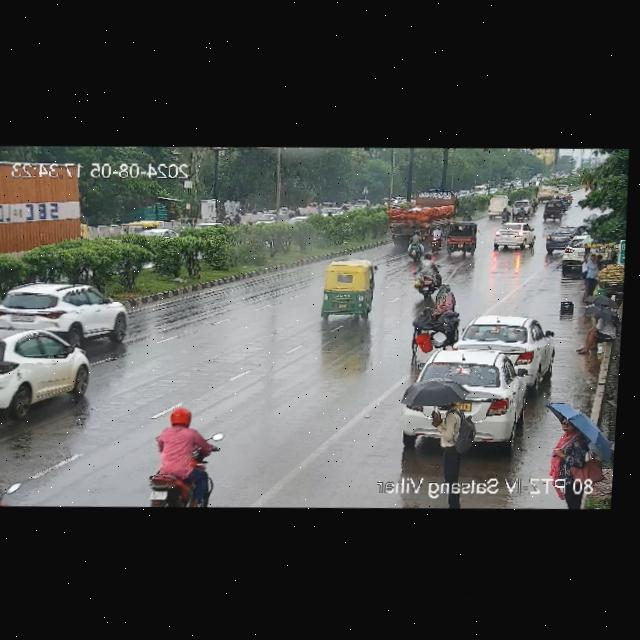car: (405, 356, 511, 450), (0, 285, 128, 346), (0, 333, 87, 418), (447, 315, 540, 373), (413, 281, 458, 348), (319, 263, 372, 318), (558, 237, 595, 272), (495, 223, 531, 250), (542, 225, 574, 255), (450, 225, 474, 255), (116, 220, 156, 237)
motorcycle: (153, 411, 212, 508), (417, 253, 440, 295), (408, 231, 425, 258)
person: (552, 420, 597, 506), (435, 397, 471, 504), (574, 304, 617, 352), (573, 253, 602, 296)
truck: (0, 162, 89, 255), (396, 193, 460, 237)
